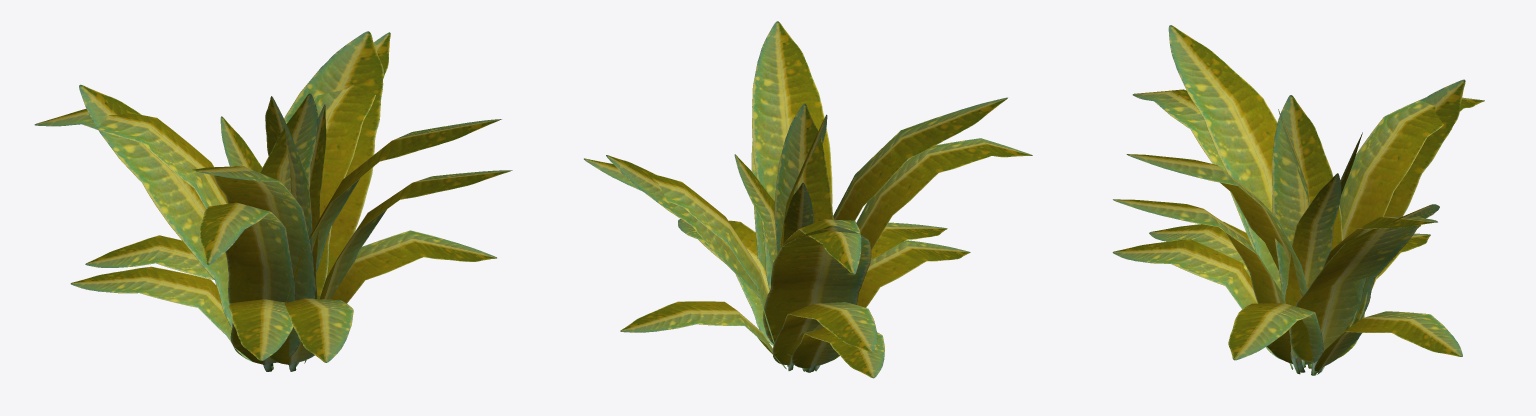
Rendered from tropical_leaf_a.glb.
3 views of the same model, side by side, from view 1: azimuth 30°, elevation 25°; view 2: azimuth 150°, elevation 25°; view 3: azimuth 270°, elevation 25° (orthographic). The views are drawn at different scales.
Visible parts, largest first — view 1: Plant alpha 3; view 2: Plant alpha 3; view 3: Plant alpha 3.
Boxes of the visible parts, x1,y1,x2,y2 form: Plant alpha 3: [34, 31, 512, 371]; Plant alpha 3: [584, 21, 1032, 378]; Plant alpha 3: [1112, 25, 1484, 375].
Size of the model in its own units: 1.39 by 0.982 by 1.39.
Materials: 1 (1 with a texture image).
